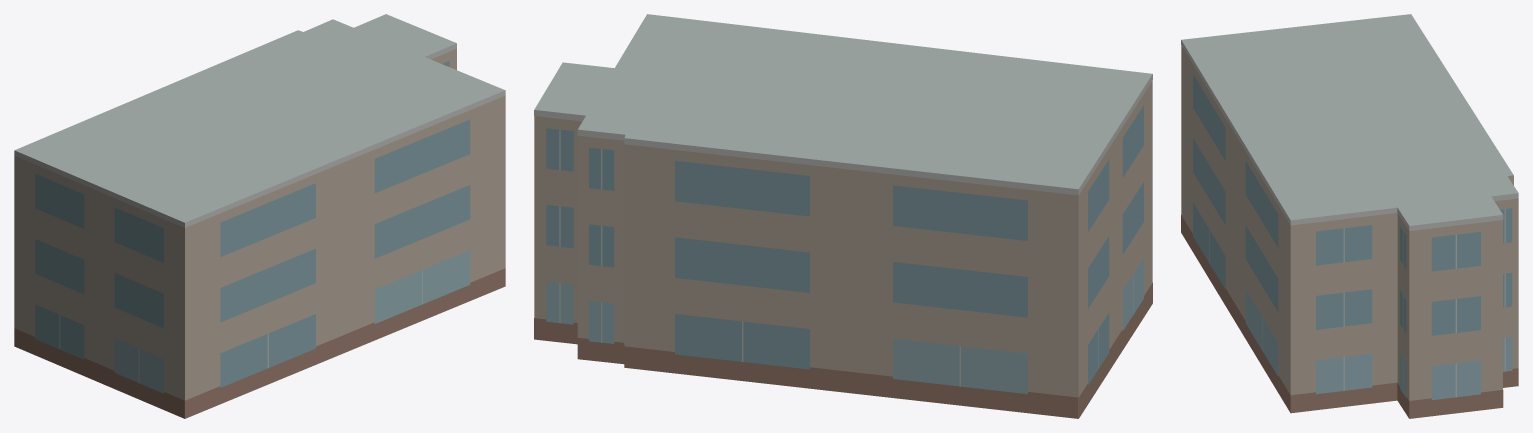
Rendered from survey-upis-33014974.glb.
The picture shows the model from 3 angles, left to right: view 1: azimuth 30°, elevation 25°; view 2: azimuth 150°, elevation 25°; view 3: azimuth 270°, elevation 25°; orthographic projection. The views are drawn at different scales.
Visible parts, largest first — view 1: survey-upis-33014974.tmp; view 2: survey-upis-33014974.tmp; view 3: survey-upis-33014974.tmp.
Boxes of the visible parts, box(x1,y1,x2,y2) form: survey-upis-33014974.tmp: box(14, 14, 505, 418); survey-upis-33014974.tmp: box(534, 14, 1152, 418); survey-upis-33014974.tmp: box(1181, 14, 1518, 418).
Size of the model in its own units: 21.58 by 9.15 by 14.52.
